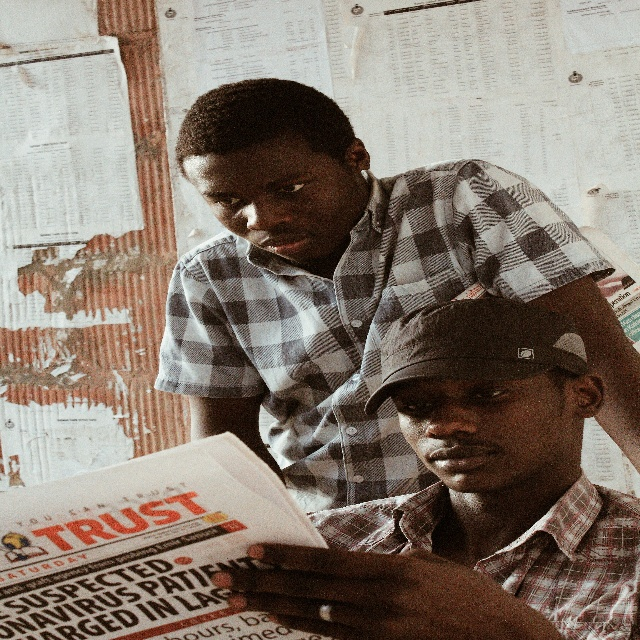Sin_guantes: (212, 541, 526, 640)
